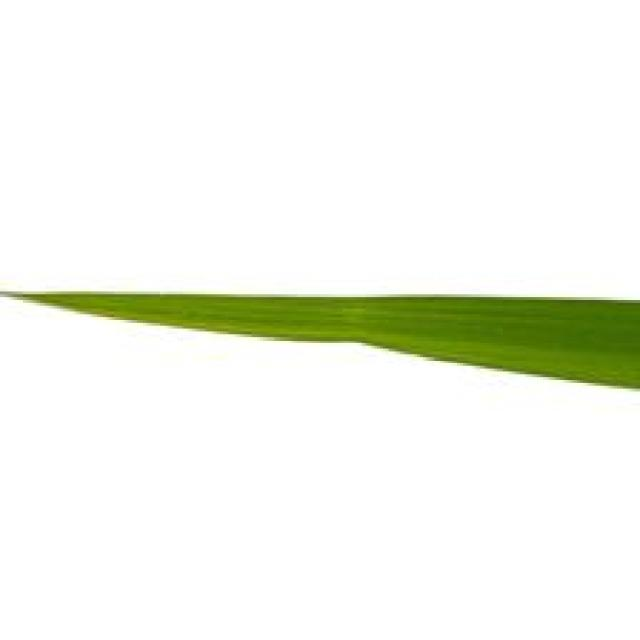Rice___Healthy_Rice_Plant: (1, 291, 637, 393)
